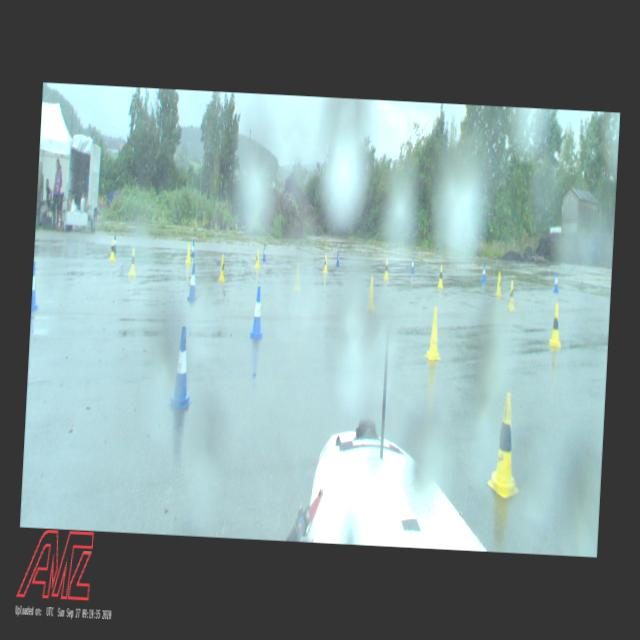blue_cone: (167, 326, 197, 409), (249, 286, 267, 339), (32, 262, 42, 312), (188, 265, 198, 301), (553, 272, 559, 293), (481, 263, 486, 283), (113, 234, 118, 254), (410, 256, 415, 274), (336, 250, 341, 267), (262, 245, 267, 262), (191, 241, 195, 257)
yellow_cone: (488, 392, 524, 498), (425, 307, 444, 360), (549, 302, 563, 348), (366, 274, 376, 310), (506, 280, 516, 312), (128, 247, 138, 276), (494, 272, 504, 296), (218, 254, 226, 282), (293, 264, 301, 291), (436, 265, 444, 288), (109, 238, 116, 262), (254, 248, 262, 268), (322, 253, 329, 273), (186, 243, 192, 265), (384, 260, 389, 280)
